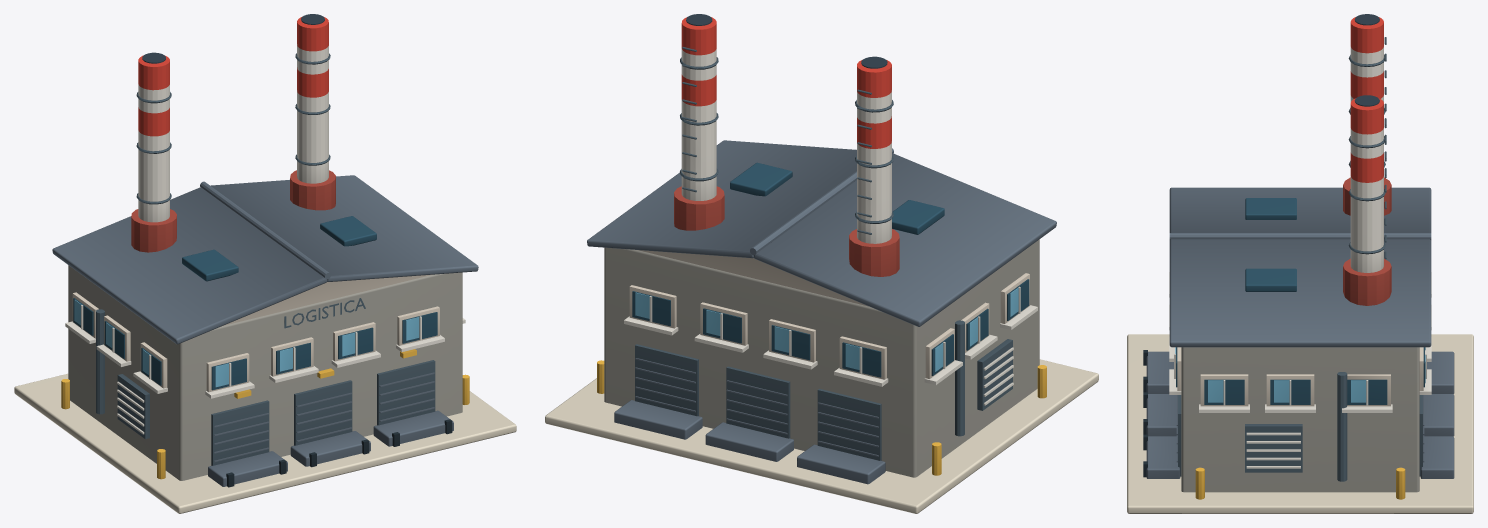
Rendered from factory.glb.
3 renders of one model, left to right at view 1: azimuth 30°, elevation 25°; view 2: azimuth 150°, elevation 25°; view 3: azimuth 270°, elevation 25°, orthographic. The views are drawn at different scales.
Visible parts, largest first — view 1: pitched roof, warehouse, industrial apron, loading door, mullion, blue glazing, gable walls, stack.004, chimney footing, sky reflection, safety bollard, dock rubber buffer; view 2: pitched roof, warehouse, industrial apron, loading door, mullion, blue glazing, gable walls, stack.004, chimney footing, sky reflection, safety bollard; view 3: pitched roof, warehouse, industrial apron, mullion, loading door, blue glazing, stack.004, chimney footing, gable walls, sky reflection, safety bollard, open chimney (+1 smaller).
Part boxes in pixels (<box>): pitched roof: <box>52,175,478,486</box>; warehouse: <box>68,265,462,480</box>; industrial apron: <box>14,373,516,513</box>; loading door: <box>96,53,435,465</box>; mullion: <box>65,44,465,434</box>; blue glazing: <box>73,216,437,390</box>; gable walls: <box>72,274,439,392</box>; stack.004: <box>138,17,328,136</box>; chimney footing: <box>131,170,335,252</box>; sky reflection: <box>74,299,419,387</box>; safety bollard: <box>61,349,469,479</box>; dock rubber buffer: <box>226,419,452,487</box>; pitched roof: <box>587,140,1056,484</box>; warehouse: <box>604,239,1039,477</box>; industrial apron: <box>545,359,1098,513</box>; loading door: <box>635,47,1012,460</box>; mullion: <box>624,49,1037,405</box>; blue glazing: <box>632,162,1029,377</box>; gable walls: <box>629,250,1029,379</box>; stack.004: <box>681,17,891,148</box>; chimney footing: <box>674,186,899,276</box>; sky reflection: <box>635,288,1018,371</box>; safety bollard: <box>597,360,1046,475</box>; pitched roof: <box>1146,187,1454,478</box>; warehouse: <box>1181,347,1419,492</box>; industrial apron: <box>1127,334,1473,513</box>; mullion: <box>1169,47,1431,468</box>; loading door: <box>1178,37,1422,481</box>; blue glazing: <box>1176,198,1424,404</box>; stack.004: <box>1350,17,1383,182</box>; chimney footing: <box>1343,177,1391,305</box>; gable walls: <box>1177,347,1423,406</box>; sky reflection: <box>1175,347,1425,402</box>; safety bollard: <box>1195,467,1405,499</box>; open chimney: <box>1354,14,1379,106</box>.
Bounding box in the file's own units: 4.9 × 4.87 × 4.15.
